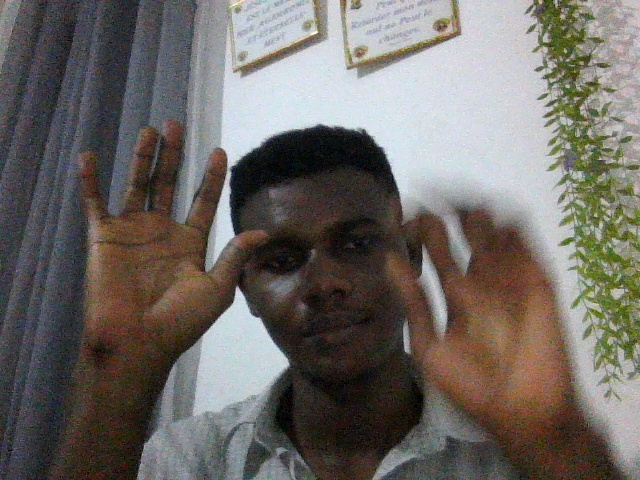hand: (57, 118, 267, 387)
